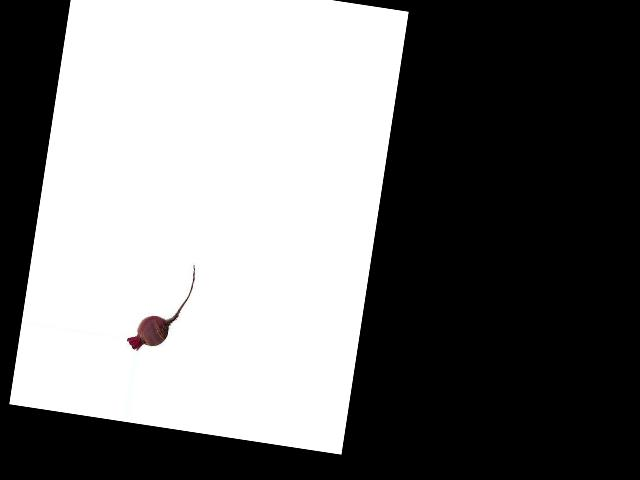beet: (126, 256, 197, 356)
